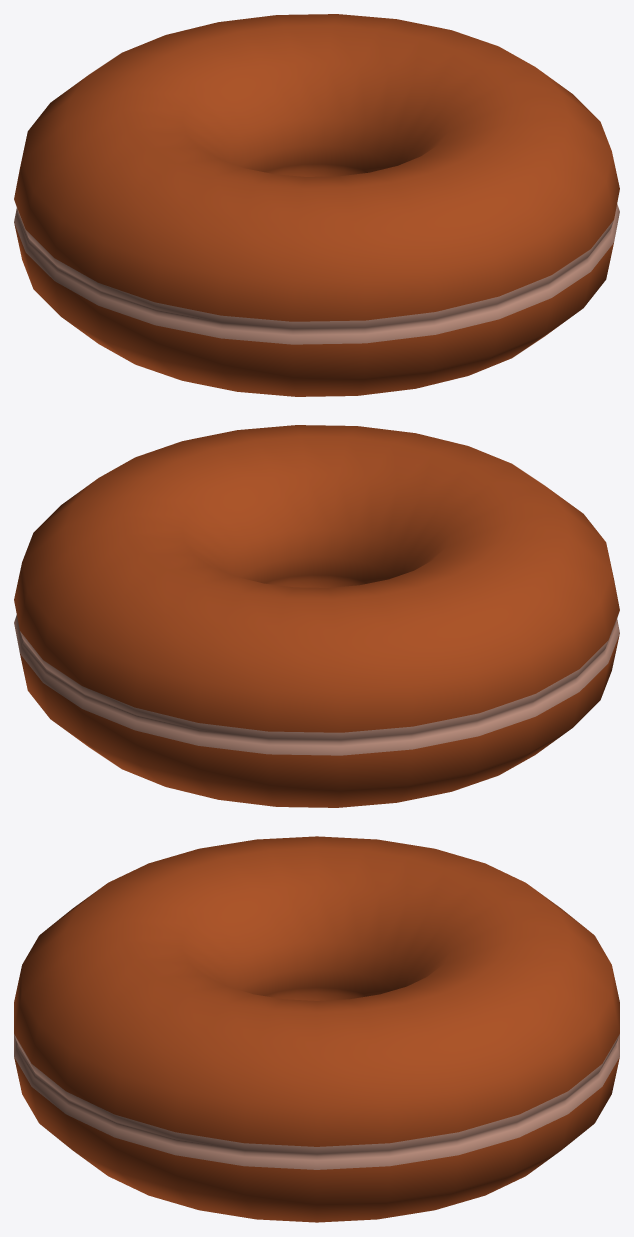
Rendered from Donut.FBX.
3 views of the same model, one above another, from view 1: azimuth 30°, elevation 25°; view 2: azimuth 150°, elevation 25°; view 3: azimuth 270°, elevation 25° (orthographic).
Visible parts, largest first — view 1: Torus006; view 2: Torus006; view 3: Torus006.
Part boxes in pixels (bbox=[...]): Torus006: bbox=[14, 14, 619, 396]; Torus006: bbox=[14, 425, 619, 807]; Torus006: bbox=[14, 836, 619, 1222].
Size of the model in its own units: 715 by 256 by 710.
